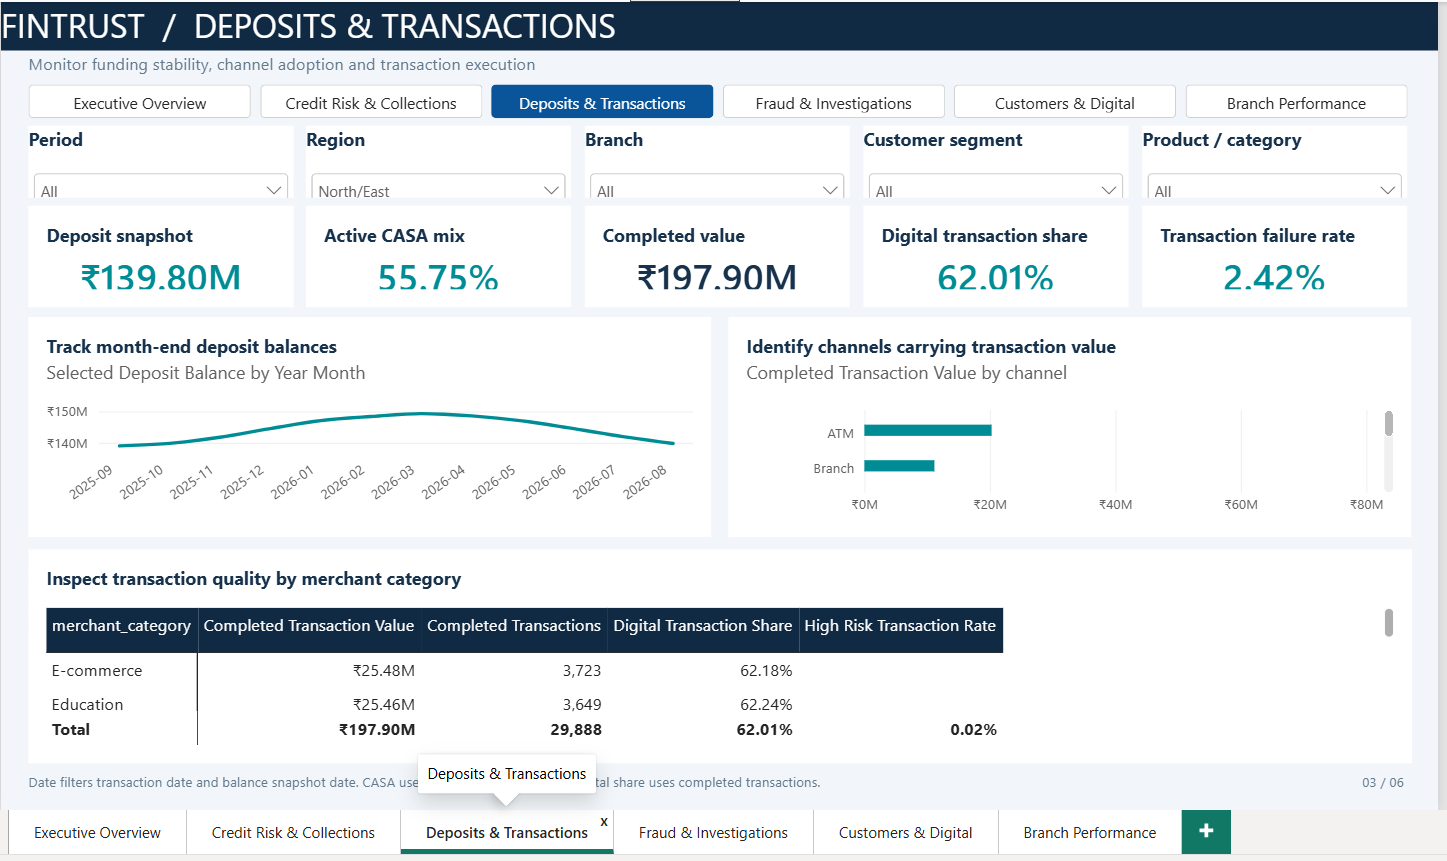

The dashboard page shown, as its layout file describes it:
{"tool":"powerbi","page":{"name":"Deposits & Transactions","canvas":[1280,720],"ordinal":2},"visuals":[{"type":"textbox","box":[0,0,1280,43],"z":18},{"type":"textbox","box":[24,45,1232,26],"z":18},{"type":"pageNavigator","box":[24,74,1232,30],"z":18},{"type":"slicer","title":"Period","fields":{"Values":["Date.Year Month"]},"box":[24,110,236,64],"z":18},{"type":"slicer","title":"Region","fields":{"Values":["branches.region"]},"box":[272,110,236,64],"z":18},{"type":"slicer","title":"Branch","fields":{"Values":["branches.branch_name"]},"box":[520,110,236,64],"z":18},{"type":"slicer","title":"Customer segment","fields":{"Values":["customers.occupation_segment"]},"box":[768,110,236,64],"z":18},{"type":"slicer","title":"Product / category","fields":{"Values":["accounts.account_type"]},"box":[1016,110,236,64],"z":18},{"type":"card","title":"Deposit snapshot","fields":{"Values":["monthly_balances.Selected Deposit Balance"]},"box":[24,182,236,90],"z":18},{"type":"card","title":"Active CASA mix","fields":{"Values":["accounts.CASA Ratio"]},"box":[272,182,236,90],"z":18},{"type":"card","title":"Completed value","fields":{"Values":["transactions.Completed Transaction Value"]},"box":[520,182,236,90],"z":18},{"type":"card","title":"Digital transaction share","fields":{"Values":["transactions.Digital Transaction Share"]},"box":[768,182,236,90],"z":18},{"type":"card","title":"Transaction failure rate","fields":{"Values":["transactions.Transaction Failure Rate"]},"box":[1016,182,236,90],"z":18},{"type":"lineChart","title":"Track month-end deposit balances","fields":{"Category":["Date.Year Month"],"Y":["monthly_balances.Selected Deposit Balance"]},"box":[24,280,608,196],"z":18},{"type":"clusteredBarChart","title":"Identify channels carrying transaction value","fields":{"Category":["transactions.channel"],"Y":["transactions.Completed Transaction Value"]},"box":[648,280,608,196],"z":18},{"type":"pivotTable","title":"Inspect transaction quality by merchant category","fields":{"Rows":["transactions.merchant_category"],"Values":["transactions.Completed Transaction Value","transactions.Completed Transactions","transactions.Digital Transaction Share","transactions.High Risk Transaction Rate"]},"box":[24,488,1232,190],"z":18},{"type":"textbox","box":[24,684,1190,30],"z":18},{"type":"textbox","box":[1212,684,60,30],"z":18}]}

Visuals, with their boxes on the page's 1280x720 design canvas (x1, y1, x2, y2). These are canvas units, not pixel positions in the 1447x861 screenshot, which may show the page scaled, cropped or inside an application window:
textbox: <bbox>0, 0, 1280, 43</bbox>
textbox: <bbox>24, 45, 1256, 71</bbox>
pageNavigator: <bbox>24, 74, 1256, 104</bbox>
"Period" slicer: <bbox>24, 110, 260, 174</bbox>
"Region" slicer: <bbox>272, 110, 508, 174</bbox>
"Branch" slicer: <bbox>520, 110, 756, 174</bbox>
"Customer segment" slicer: <bbox>768, 110, 1004, 174</bbox>
"Product / category" slicer: <bbox>1016, 110, 1252, 174</bbox>
"Deposit snapshot" card: <bbox>24, 182, 260, 272</bbox>
"Active CASA mix" card: <bbox>272, 182, 508, 272</bbox>
"Completed value" card: <bbox>520, 182, 756, 272</bbox>
"Digital transaction share" card: <bbox>768, 182, 1004, 272</bbox>
"Transaction failure rate" card: <bbox>1016, 182, 1252, 272</bbox>
"Track month-end deposit balances" lineChart: <bbox>24, 280, 632, 476</bbox>
"Identify channels carrying transaction value" clusteredBarChart: <bbox>648, 280, 1256, 476</bbox>
"Inspect transaction quality by merchant category" pivotTable: <bbox>24, 488, 1256, 678</bbox>
textbox: <bbox>24, 684, 1214, 714</bbox>
textbox: <bbox>1212, 684, 1272, 714</bbox>
